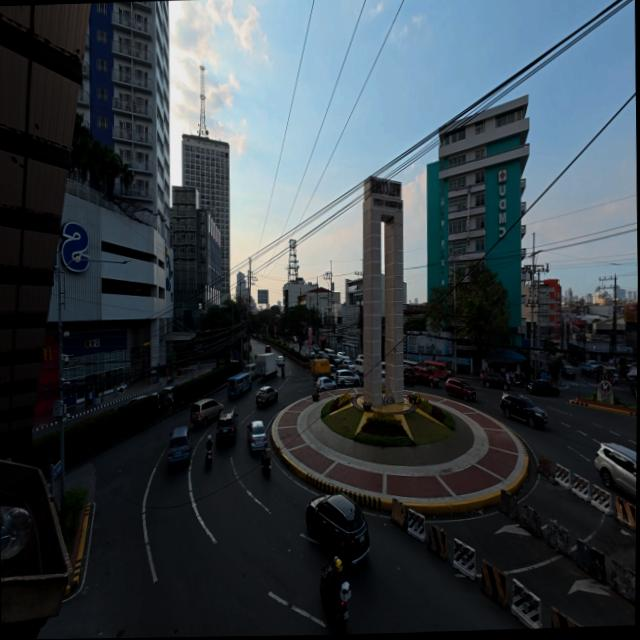Jeepneys: (420, 360, 451, 380), (227, 373, 250, 399)
car: (305, 493, 369, 566), (594, 443, 636, 497), (499, 393, 546, 428), (167, 425, 192, 465), (189, 399, 222, 427), (215, 410, 237, 444), (444, 378, 475, 401), (246, 420, 266, 451), (255, 385, 278, 407), (413, 368, 438, 388), (526, 381, 559, 396), (481, 372, 508, 390), (335, 369, 359, 386), (316, 376, 335, 392), (242, 362, 258, 379), (127, 393, 149, 404), (161, 386, 173, 405), (341, 360, 355, 373), (561, 366, 575, 379), (328, 355, 340, 366), (304, 349, 315, 358), (316, 350, 327, 358), (336, 352, 347, 360), (568, 357, 577, 366), (275, 356, 283, 366), (380, 368, 384, 382), (311, 345, 318, 352), (355, 355, 362, 360), (264, 345, 269, 352), (292, 337, 296, 343), (635, 390, 636, 398)
motorcycle: (320, 563, 350, 631), (260, 448, 270, 476), (205, 449, 212, 467), (511, 377, 522, 386), (167, 374, 173, 383), (280, 366, 284, 378)
trucks: (255, 353, 276, 379), (310, 358, 329, 379)
vans: (243, 363, 258, 379), (354, 355, 364, 376), (323, 348, 333, 357)
